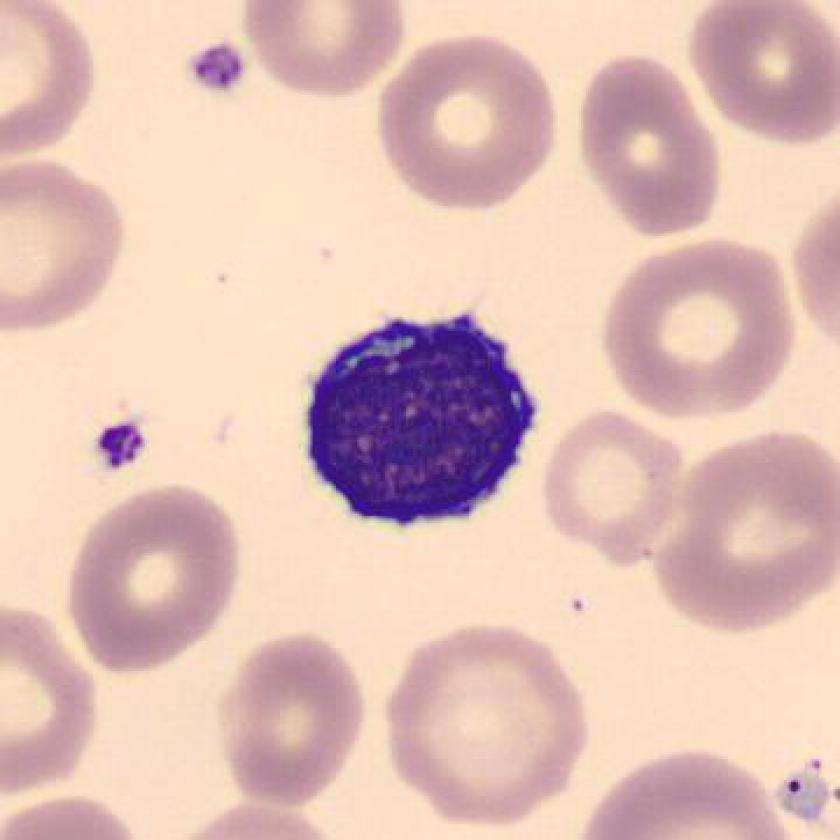lymphocyte: (288, 297, 552, 552)
